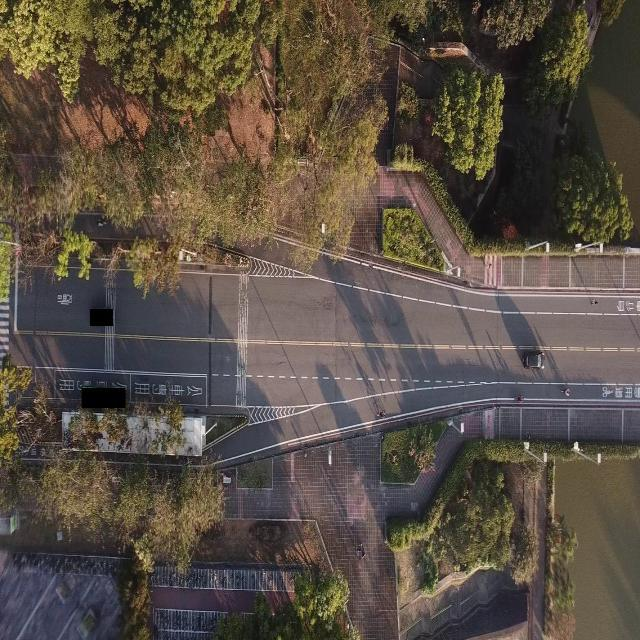car: (522, 350, 544, 369)
